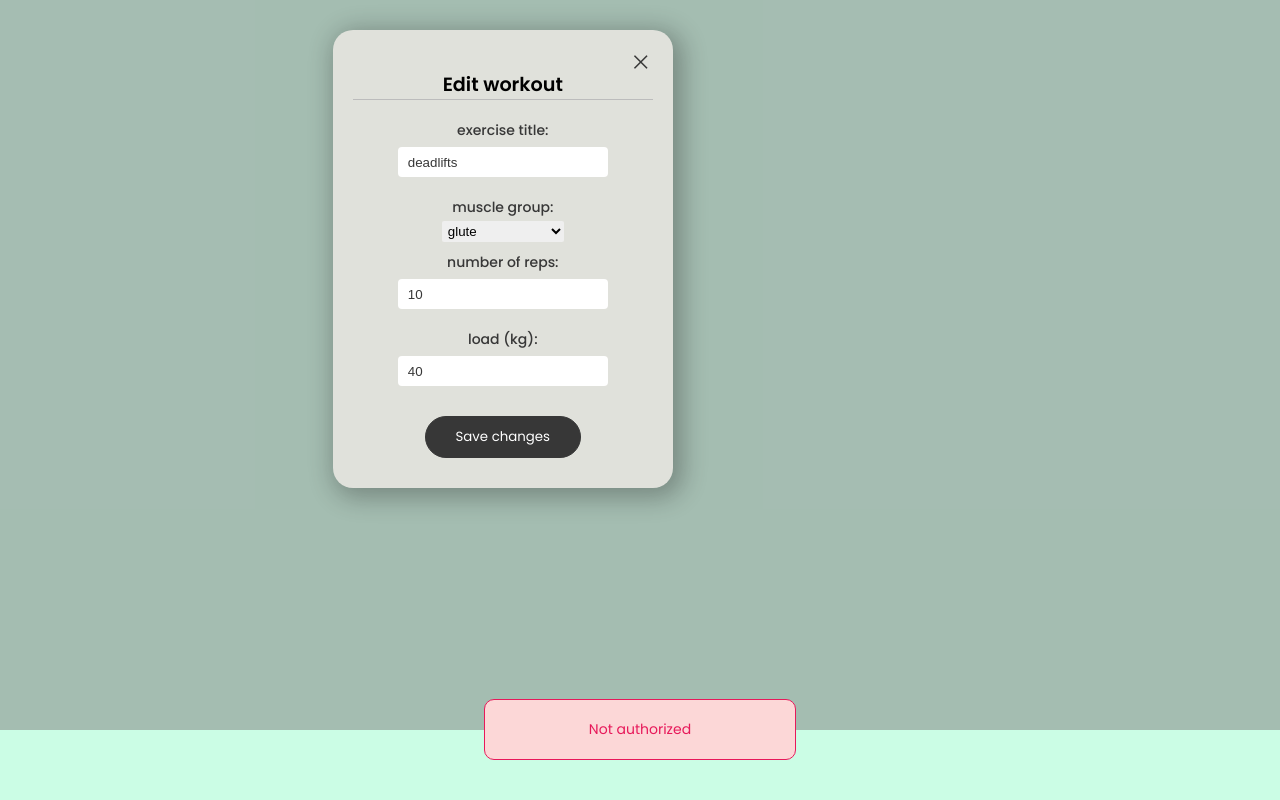
Test case: <EditWorkout/> › should render an input error if the user tries to update a workout with a too long title
Replace the text in the field with test id "title" with "adasdaasdsdfsdfdddfdfsdfsfsdfsfddsfsfsfsdfterttrteefrfwfwfwefwefweffefwe" at (503, 162), box x1=398 y1=147 x2=608 y2=177
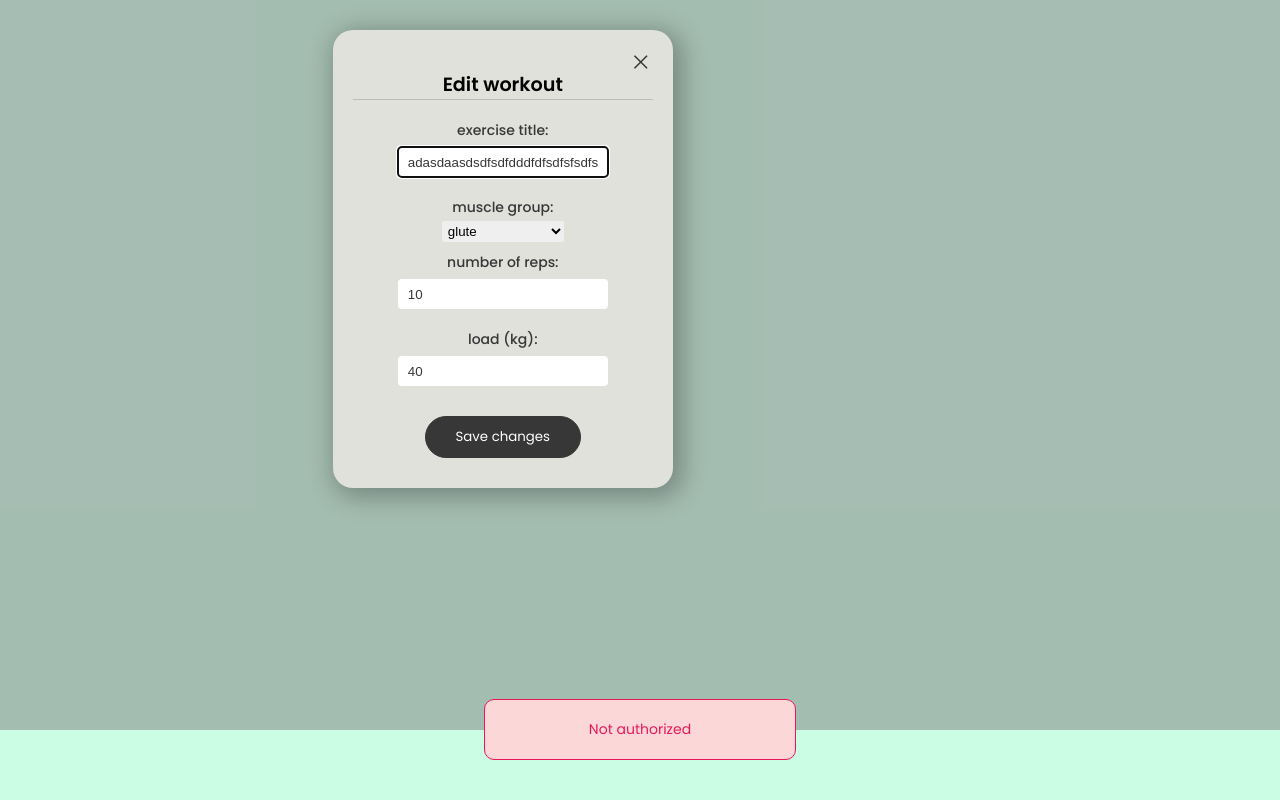
Click the button "Save changes".
click(503, 437)  # box x1=424 y1=416 x2=581 y2=458
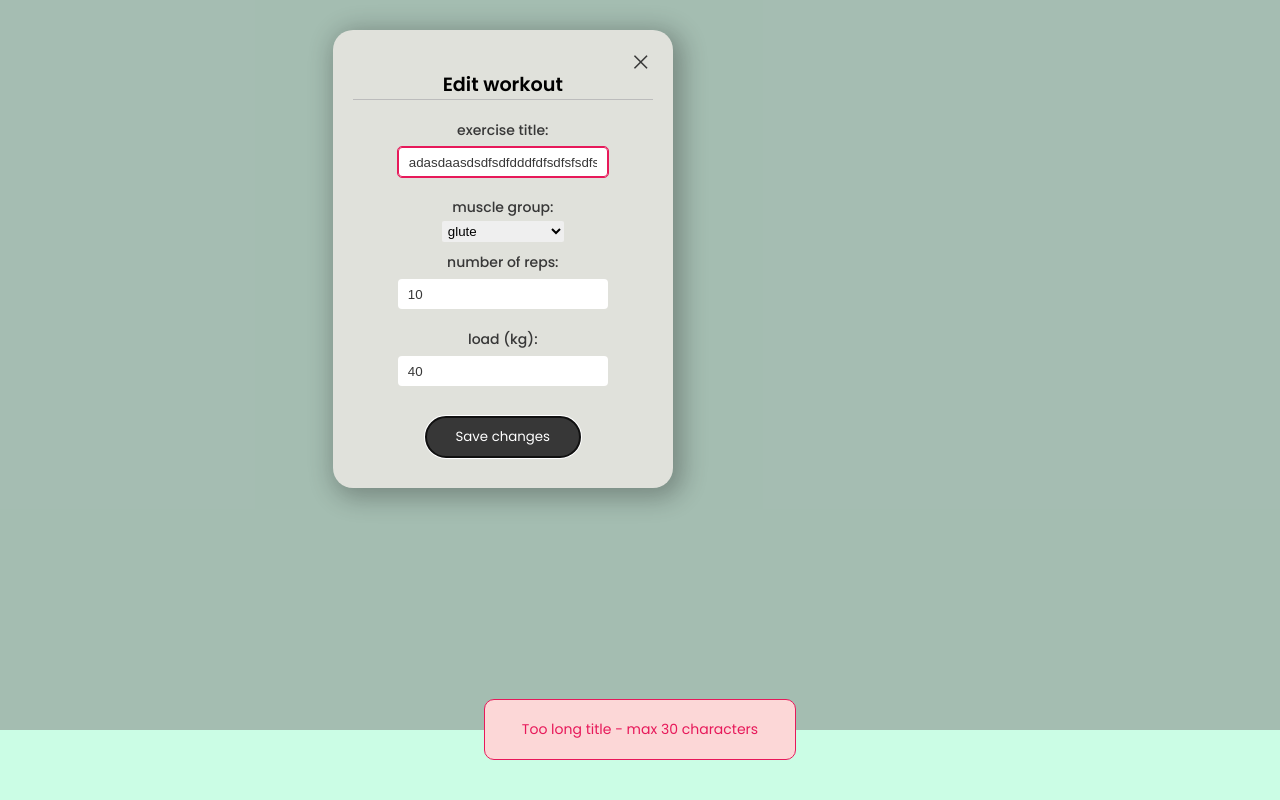
Result: the message shows "max 30 characters" at x1=522 y1=719 x2=758 y2=739
